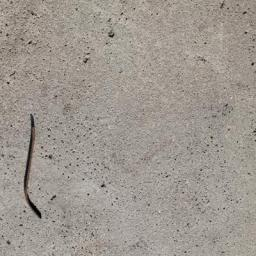FOD: (20, 114, 53, 221)
